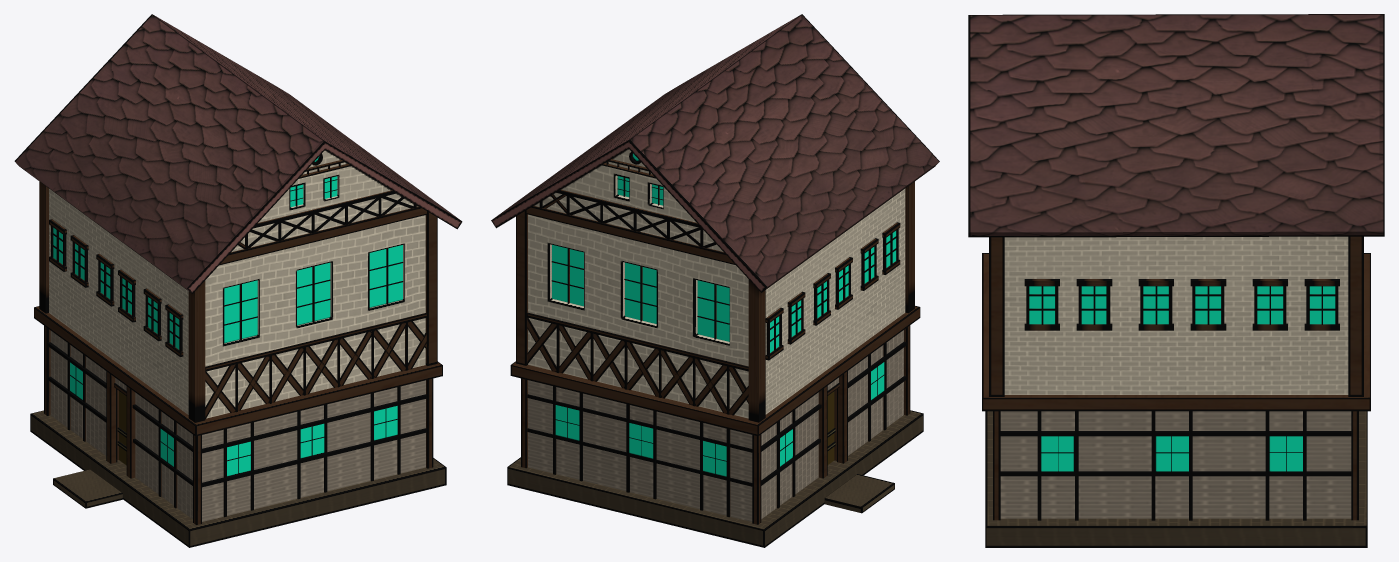
The picture shows the model from 3 angles, left to right: view 1: azimuth 30°, elevation 25°; view 2: azimuth 150°, elevation 25°; view 3: azimuth 270°, elevation 25°; orthographic projection. The views are drawn at different scales.
Visible parts, largest first — view 1: House2_2; view 2: House2_2; view 3: House2_2.
Part boxes in pixels (x1,y1,x2,y2): House2_2: (14, 14, 462, 547); House2_2: (491, 14, 939, 547); House2_2: (968, 14, 1384, 547).
Bounding box in the file's own units: 167 × 200 × 165.
